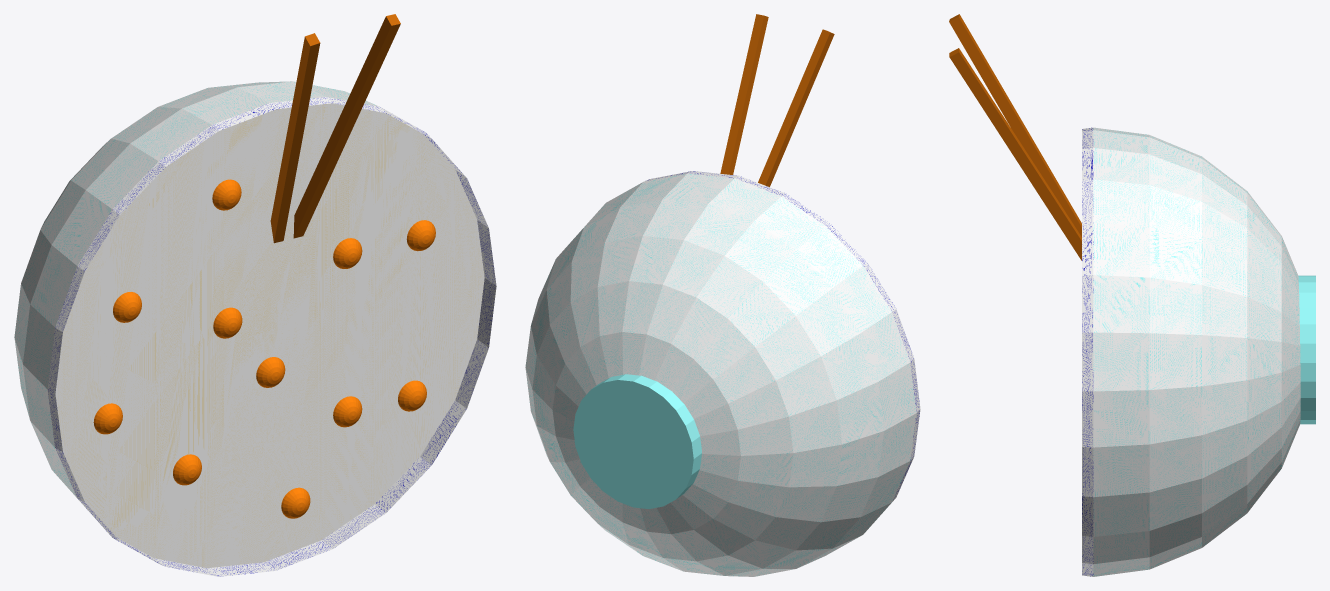
The picture shows the model from 3 angles, left to right: view 1: azimuth 30°, elevation 25°; view 2: azimuth 150°, elevation 25°; view 3: azimuth 270°, elevation 25°; orthographic projection. The views are drawn at different scales.
Visible parts, largest first — view 1: food; view 2: food; view 3: food.
Part boxes in pixels (x1,y1,x2,y2): food: [14, 14, 496, 576]; food: [525, 14, 920, 576]; food: [949, 14, 1315, 576].
Bounding box in the file's own units: 497 × 640 × 404.
